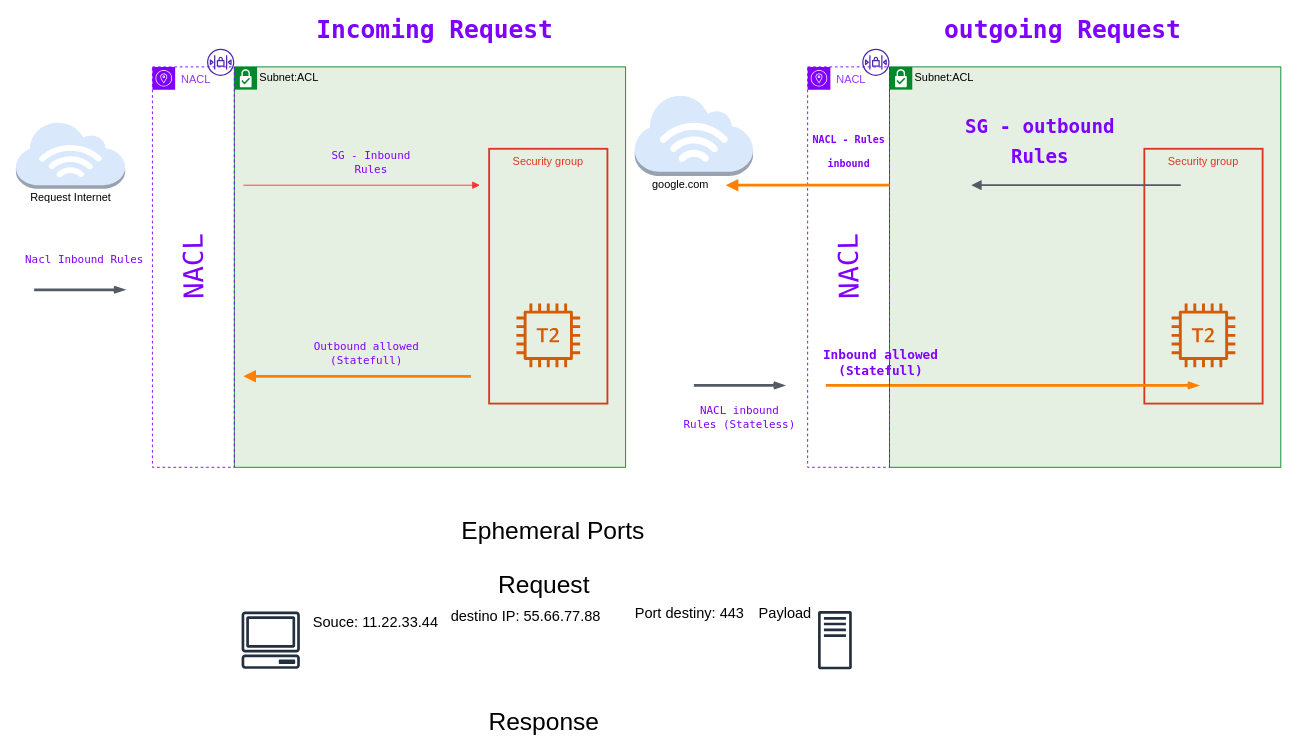
Some shapes in this 1297 by 755 pixel diagram are drawn without their labels. Here are the shapes that lost their labels. From the top down, the centre of each, then its label:
At point (270, 640): "Client IP:11.22.33.44 Ephemeral Port: 50105".
At point (834, 640): "Web server IP: 55.66.77.88 Fixed Port: 443".
